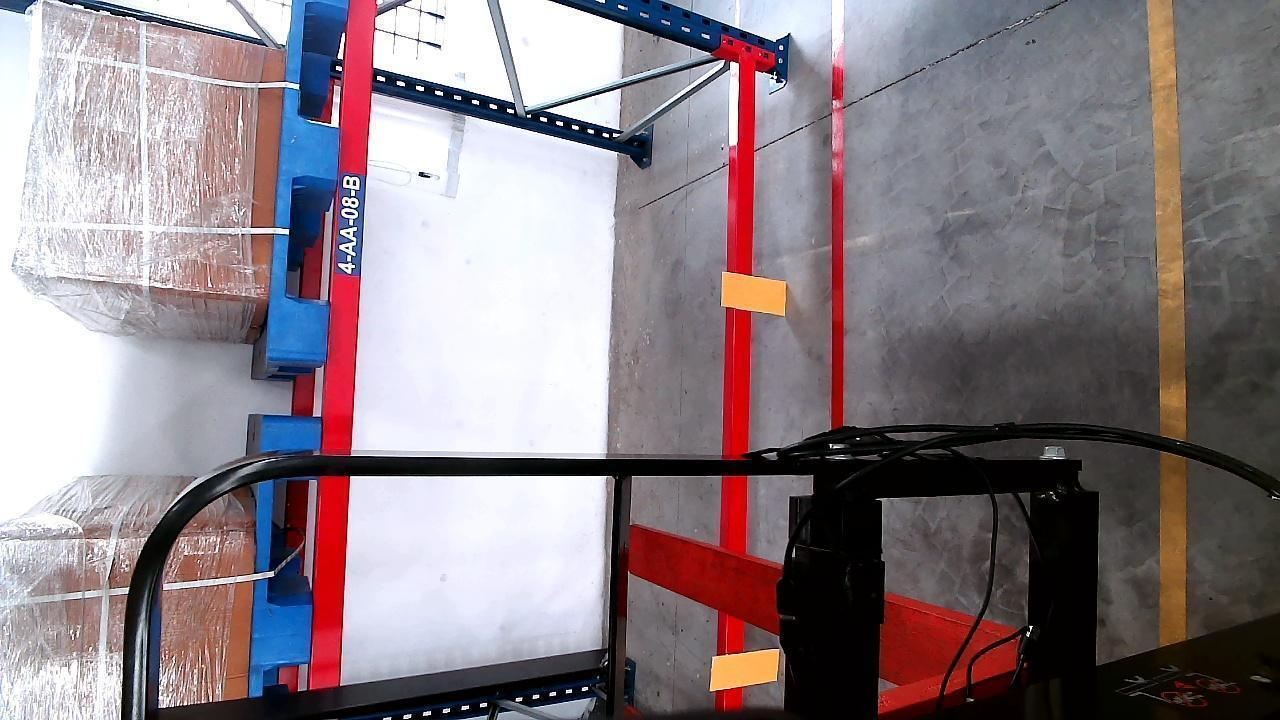red_line: (825, 29, 850, 426)
